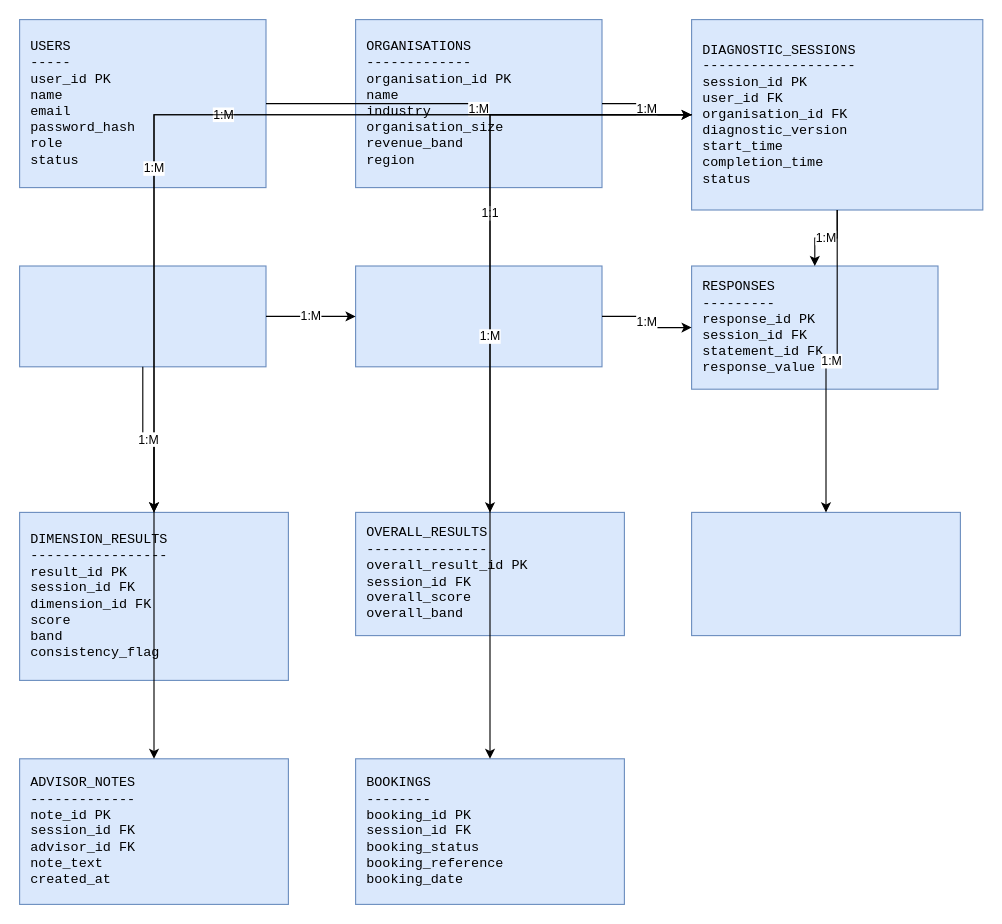
The diagram is 1002 pixels wide and 924 high, and some of its shapes have lost their labels. The centre of each missing label's shape, as x and y in pixels:
DIMENSIONS ---------- dimension_id PK dimension_name weight: the point at 142,316
RISK_FLAGS ---------- risk_id PK session_id FK risk_type risk_description: the point at 825,573
STATEMENTS ---------- statement_id PK dimension_id FK statement_text: the point at 478,316
